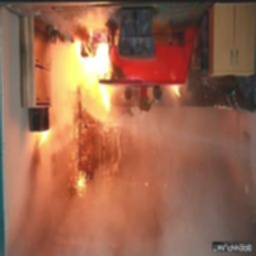fire: (72, 38, 116, 112)
smoke: (70, 118, 240, 242)
